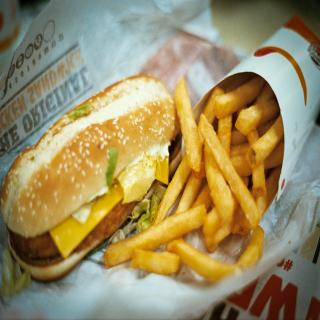Cheese: (48, 183, 123, 259), (156, 154, 170, 185)
French fries: (123, 68, 287, 291)
